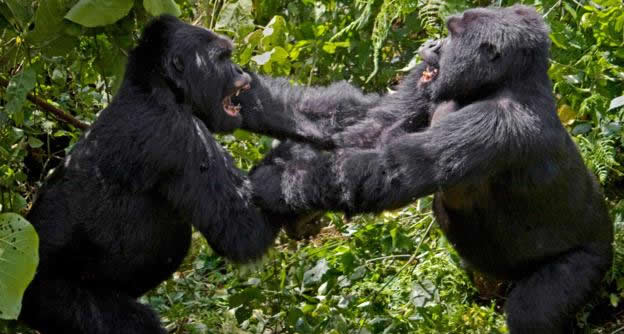Gorilla: (388, 2, 610, 328), (47, 28, 252, 320)
